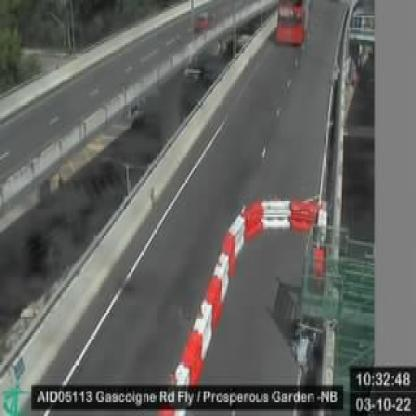Bus: (273, 0, 309, 47)
